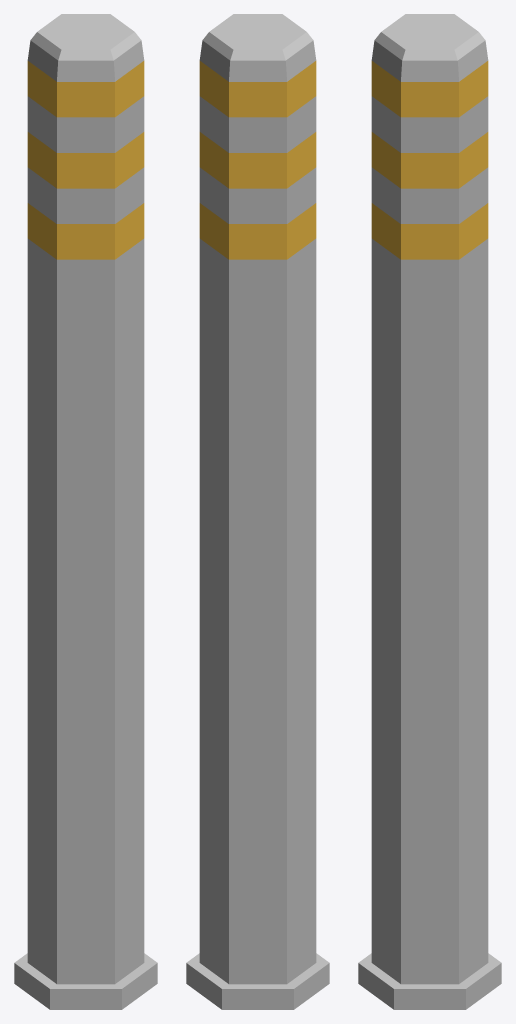
The model's file is post.fbx.
The picture shows the model from 3 angles, left to right: view 1: azimuth 30°, elevation 25°; view 2: azimuth 150°, elevation 25°; view 3: azimuth 270°, elevation 25°; orthographic projection.
Parts seen in each view (by area): view 1: post; view 2: post; view 3: post.
Boxes of the visible parts, x1,y1,x2,y2 form: post: (14, 14, 157, 1009); post: (186, 14, 329, 1009); post: (358, 14, 501, 1009).
Size of the model in its own units: 11.37 by 96.17 by 13.13.
